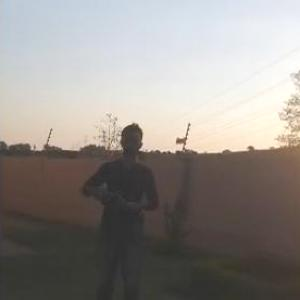follow: (76, 115, 167, 299)
